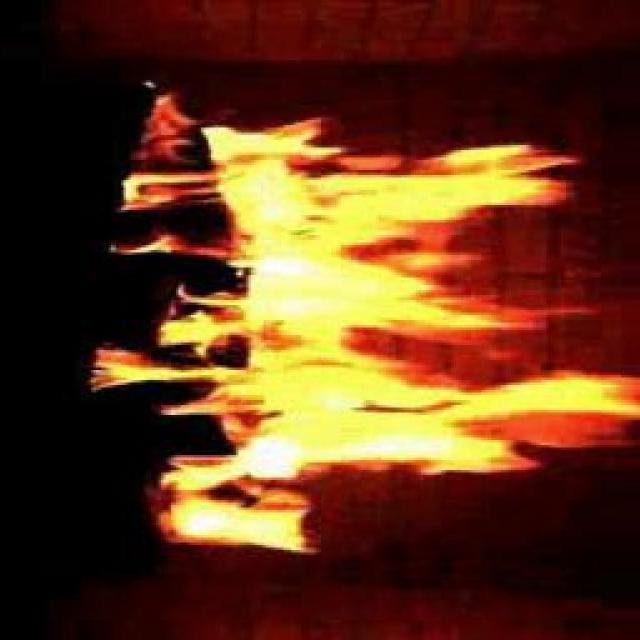Fire: (190, 127, 606, 501)
